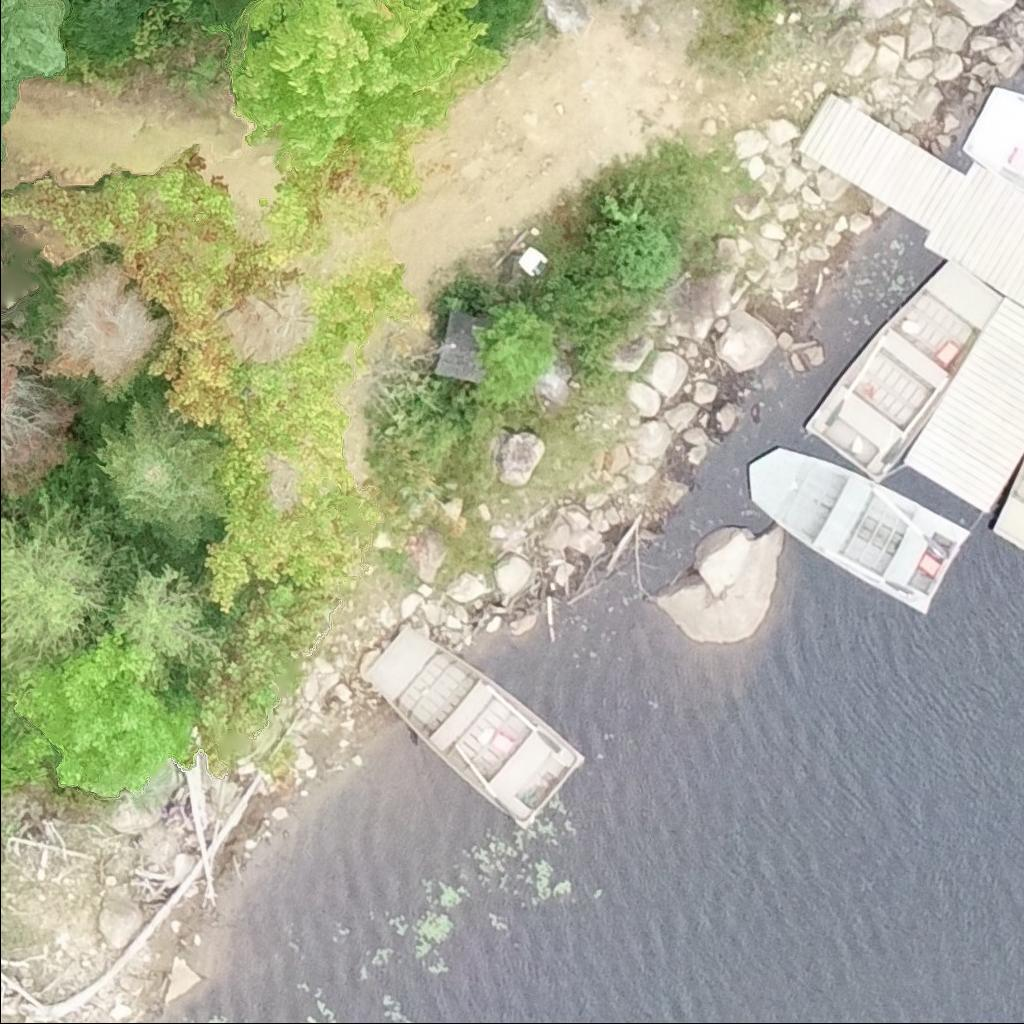crown: (0, 145, 327, 458), (194, 245, 438, 617), (230, 0, 512, 197), (79, 380, 225, 580), (0, 488, 120, 672), (36, 252, 164, 403), (101, 536, 224, 669), (0, 331, 84, 513), (0, 0, 69, 160), (60, 0, 158, 55), (468, 0, 540, 44)
